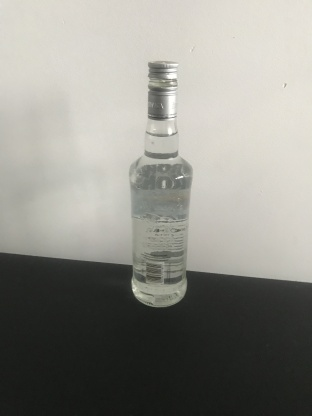nakretka: (146, 59, 179, 120)
